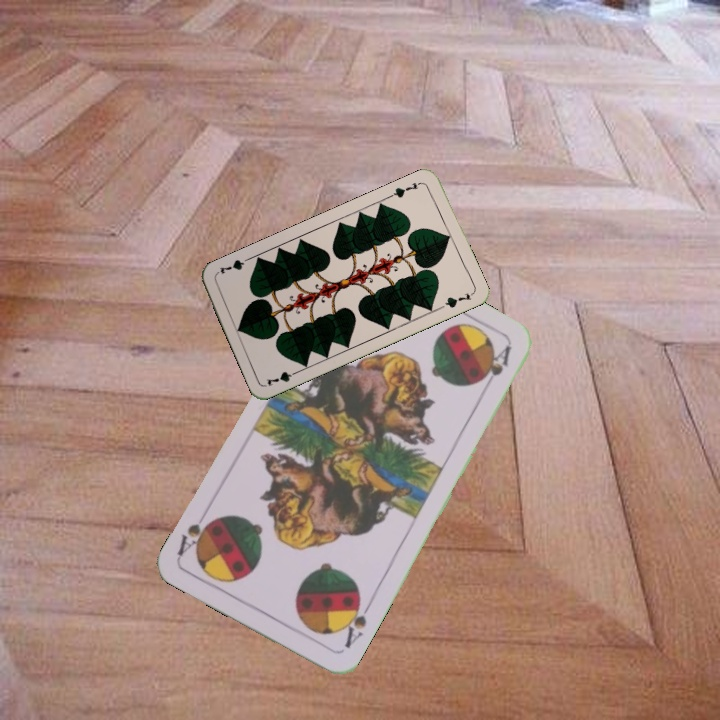G7: (262, 366, 302, 389), (386, 178, 425, 201)
SA: (336, 594, 374, 651)
